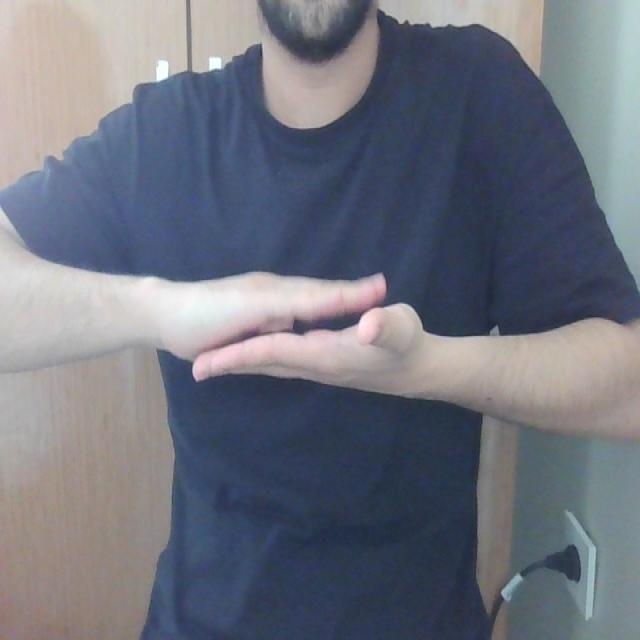Arkadas: (6, 256, 640, 426)
